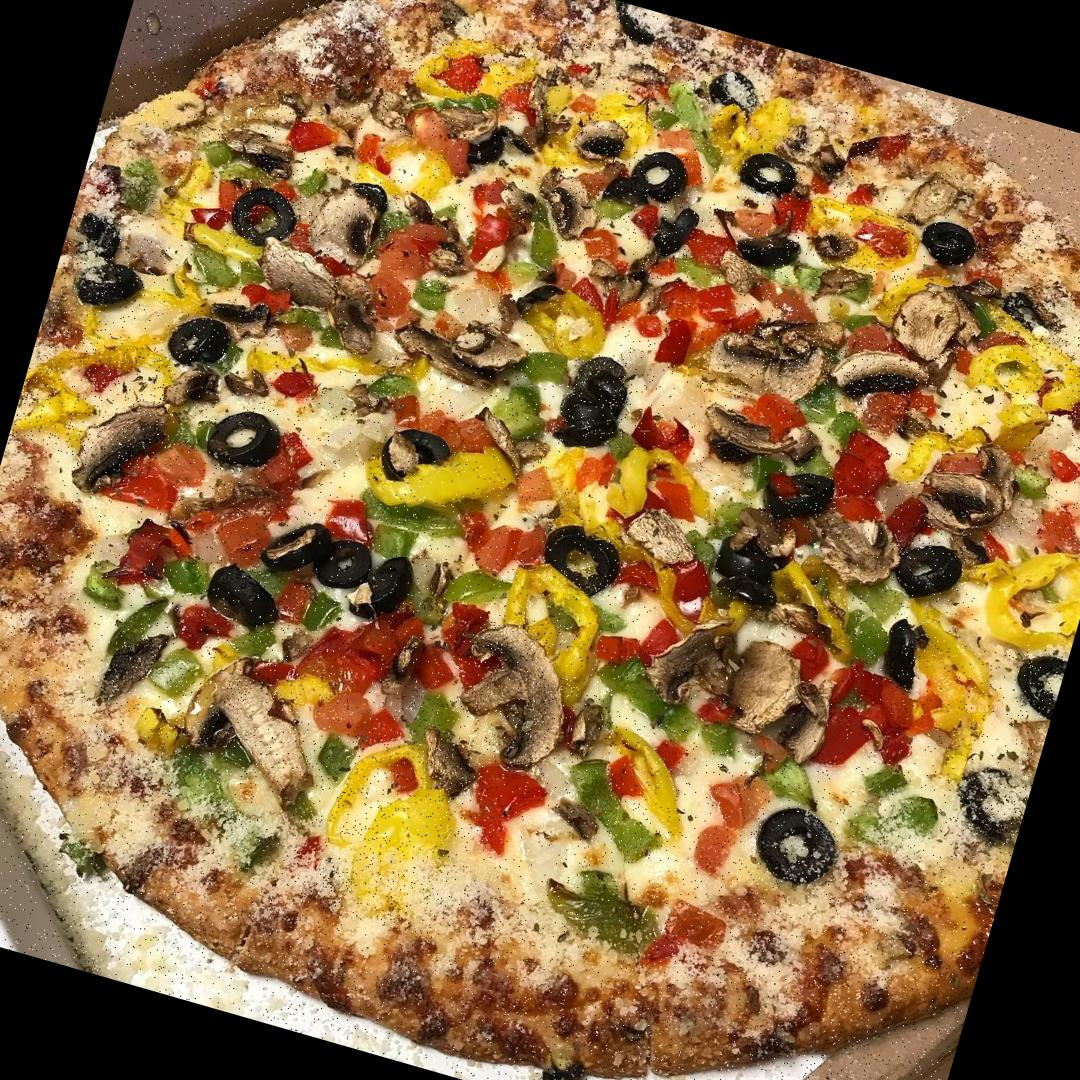Mushroom: (633, 603, 857, 770), (706, 298, 940, 437), (168, 645, 350, 817), (437, 610, 588, 782), (235, 230, 405, 357), (298, 164, 399, 280), (886, 276, 986, 365), (915, 459, 1014, 542), (428, 96, 518, 175), (529, 162, 606, 242), (566, 108, 635, 170)
Olives: (253, 514, 423, 625), (741, 797, 852, 898), (550, 348, 641, 461), (706, 528, 798, 622), (536, 517, 632, 604), (196, 555, 294, 636), (946, 759, 1034, 848), (200, 402, 291, 481), (66, 248, 154, 324), (221, 178, 305, 254), (756, 462, 842, 536), (889, 532, 971, 606), (374, 422, 458, 492), (872, 615, 939, 696), (161, 308, 238, 375), (644, 198, 710, 274), (1008, 645, 1068, 720), (624, 144, 692, 210), (915, 213, 986, 276), (732, 223, 808, 279), (734, 146, 808, 202)
Peppers: (310, 732, 488, 942), (7, 314, 182, 478), (971, 530, 1080, 670), (555, 434, 711, 526), (793, 180, 926, 284), (969, 311, 1080, 427), (398, 29, 538, 112)
Pizza: (0, 0, 1080, 1080)
